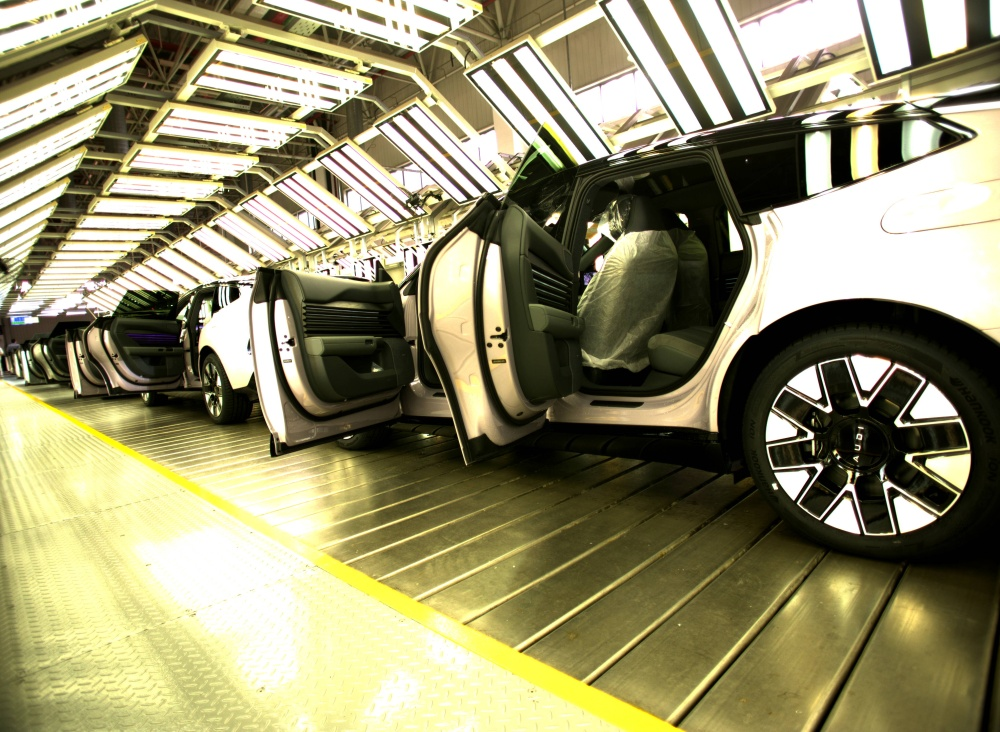armrest_color: (527, 301, 587, 338), (301, 334, 390, 354)
panel_color: (298, 298, 391, 333), (528, 259, 576, 312)
